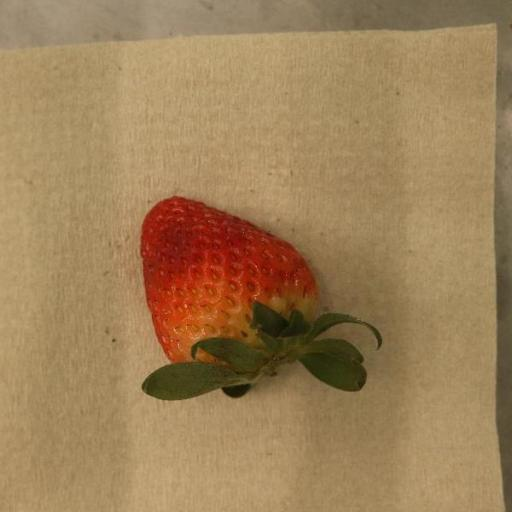Strawberry: (142, 197, 382, 402)
